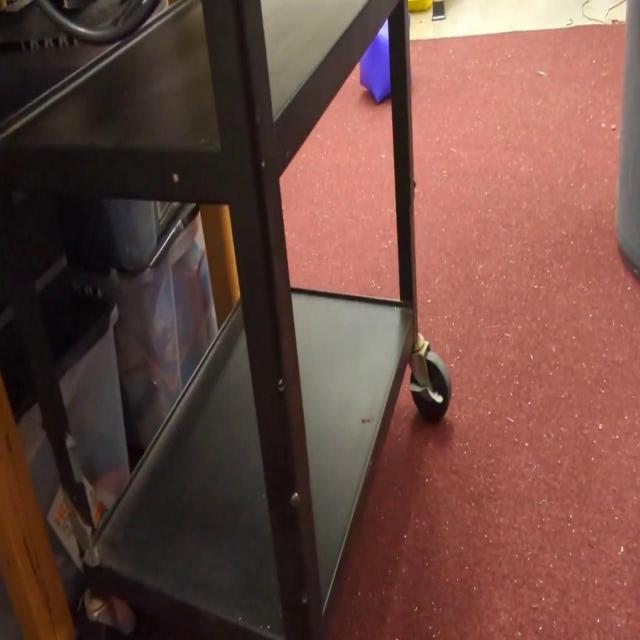frc_cube: (360, 19, 392, 104)
